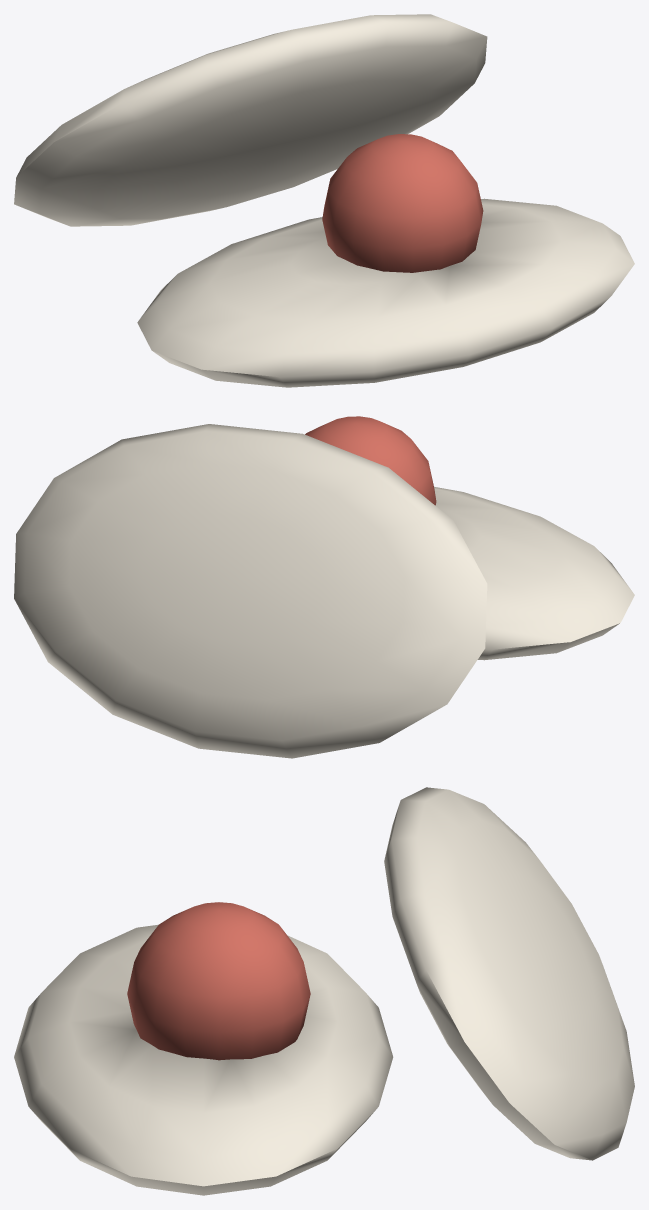
Rendered from fishing_pearl.glb.
The picture shows the model from 3 angles, top to bottom: view 1: azimuth 30°, elevation 25°; view 2: azimuth 150°, elevation 25°; view 3: azimuth 270°, elevation 25°; orthographic projection. The views are drawn at different scales.
Visible parts, largest first — view 1: PART; view 2: PART; view 3: PART.
Part boxes in pixels (bbox=[...]): PART: bbox=[14, 14, 634, 387]; PART: bbox=[14, 416, 634, 758]; PART: bbox=[14, 787, 634, 1195].
Size of the model in its own units: 0.08 by 0.0393 by 0.0812.
